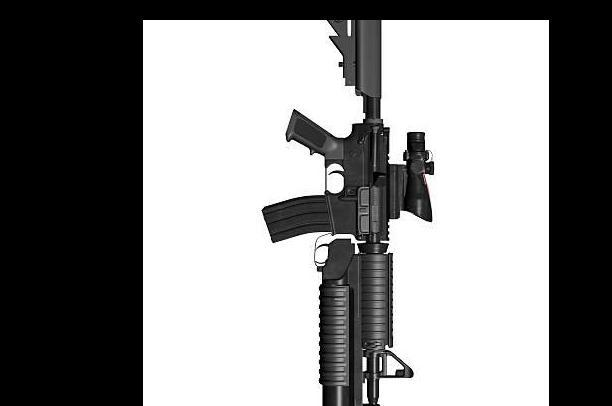larga: (260, 21, 435, 406)
